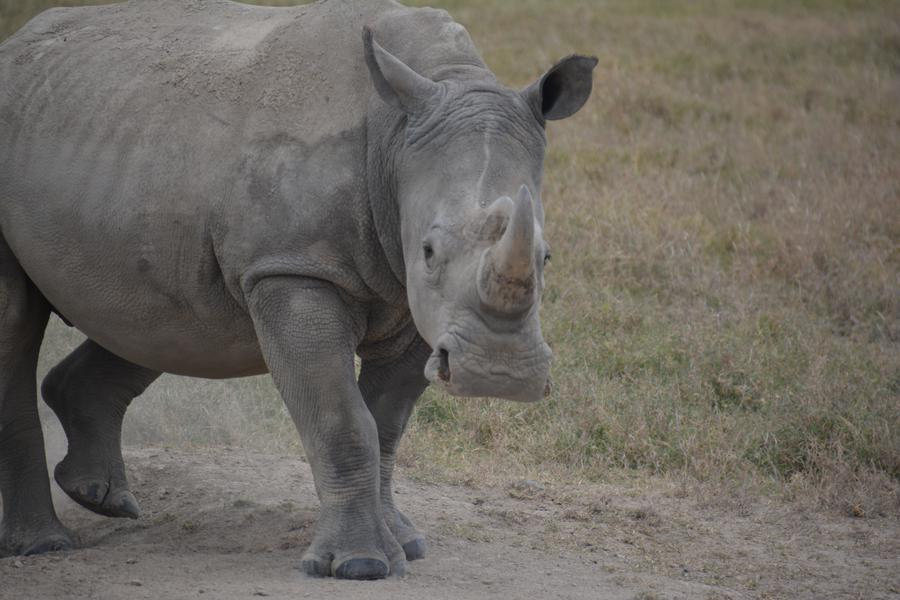rhino: (7, 26, 534, 524)
